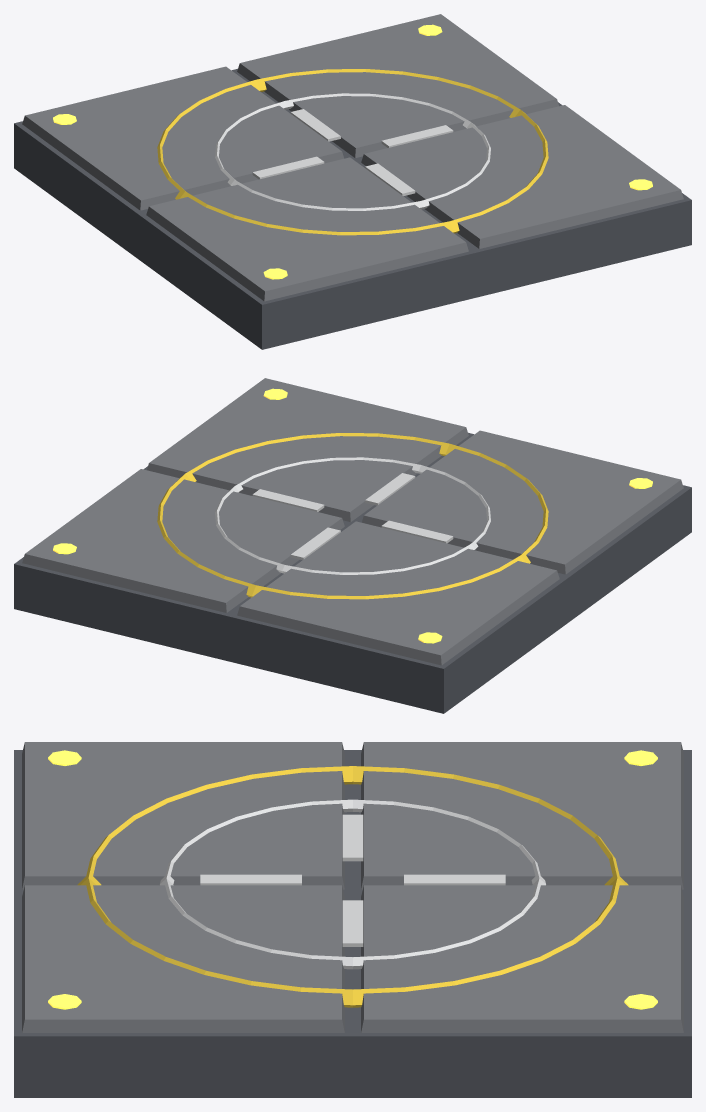
Rendered from SM_Floor_LandingPad.glb.
The picture shows the model from 3 angles, top to bottom: view 1: azimuth 30°, elevation 25°; view 2: azimuth 150°, elevation 25°; view 3: azimuth 270°, elevation 25°; orthographic projection. The views are drawn at different scales.
Parts seen in each view (by area): view 1: SM_Floor_LandingPad; view 2: SM_Floor_LandingPad; view 3: SM_Floor_LandingPad.
Boxes of the visible parts, x1,y1,x2,y2 form: SM_Floor_LandingPad: [14, 14, 691, 349]; SM_Floor_LandingPad: [14, 378, 691, 713]; SM_Floor_LandingPad: [14, 742, 691, 1097].
Size of the model in its own units: 2 by 0.25 by 2.
